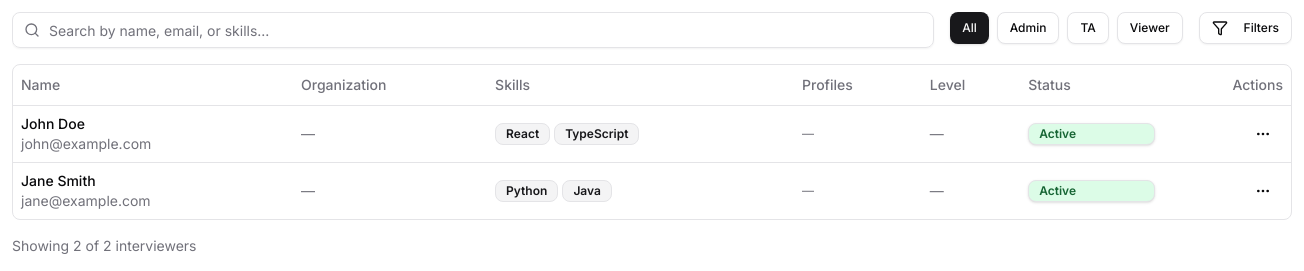
Test case: Issue #29: Memoization of expensive computations › should memoize filtered interviewers list
Check: the text "John Doe" is shown, box [21, 114, 85, 132]
Check: the text "Jane Smith" is shown, box [21, 172, 96, 188]
Type in search - this will cause filtering
Type "John" into the field with placeholder "Search by name, email, or skills..." at coordinates (473, 30), box [12, 12, 934, 48]
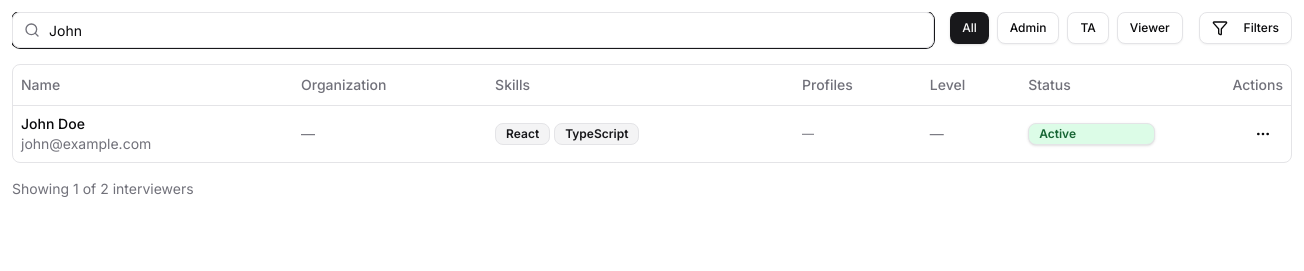
Check: the text "John Doe" is shown, box [21, 114, 85, 132]
Check: the text "Jane Smith" is gone
